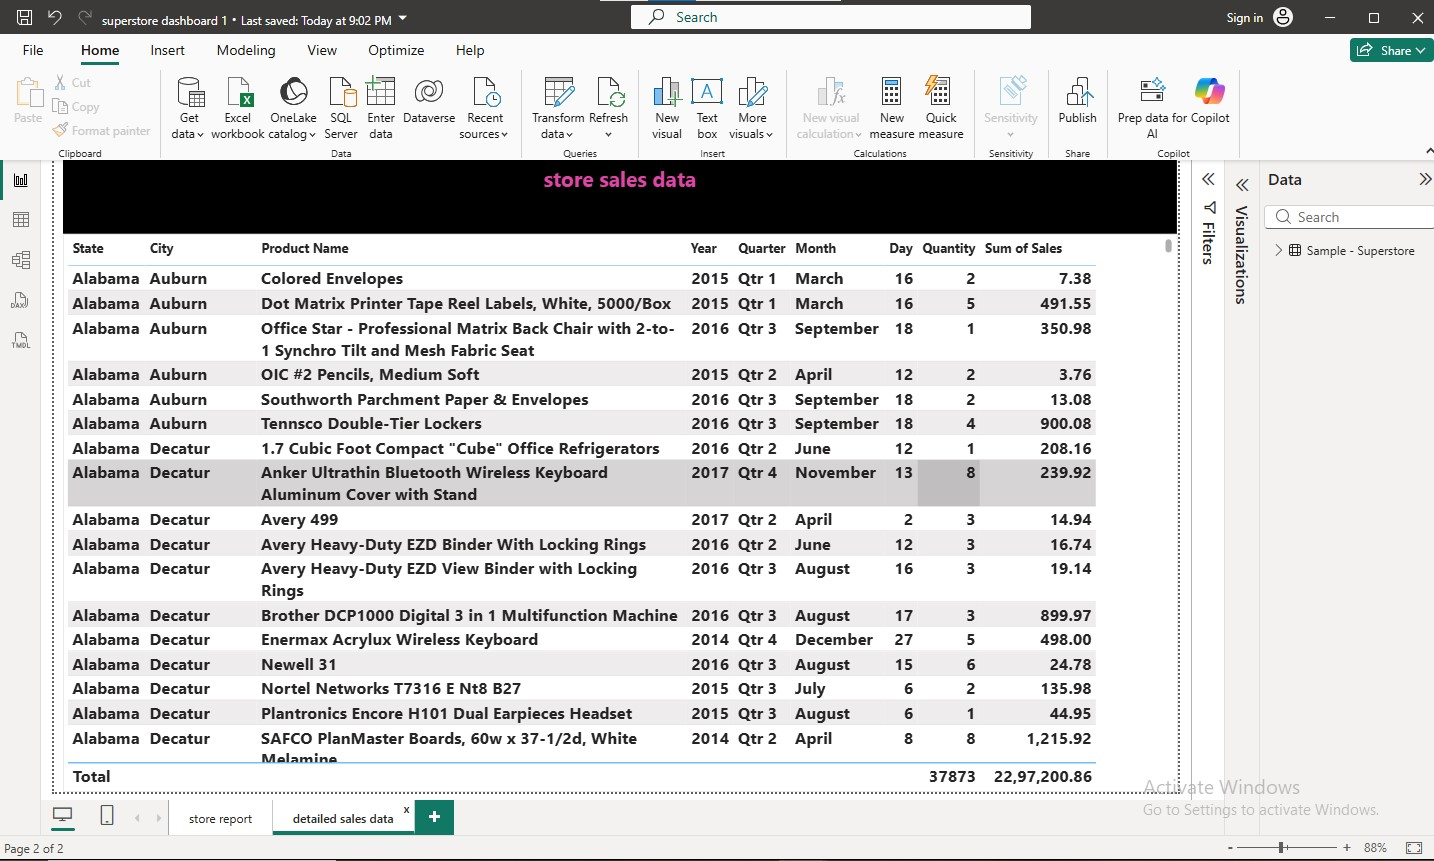

Layout of this report page (visuals, bound fields, positions):
{"tool":"powerbi","page":{"name":"detailed sales data","canvas":[1280,720],"ordinal":1},"visuals":[{"type":"tableEx","fields":{"Values":["Sample - Superstore.State","Sample - Superstore.City","Sample - Superstore.Product Name","Sample - Superstore.Order Date.Variation.Date Hierarchy.Year","Sample - Superstore.Order Date.Variation.Date Hierarchy.Quarter","Sample - Superstore.Order Date.Variation.Date Hierarchy.Month","Sample - Superstore.Order Date.Variation.Date Hierarchy.Day","Sum(Sample - Superstore.Quantity)","Sum(Sample - Superstore.Sales)"]},"box":[10.7,84.2,1269.3,635.4],"z":0},{"type":"textbox","box":[10.7,0,1269.3,84.2],"z":1}]}

Visuals, with their boxes on the page's 1280x720 design canvas (x1, y1, x2, y2). These are canvas units, not pixel positions in the 1434x861 screenshot, which may show the page scaled, cropped or inside an application window:
tableEx - Sample - Superstore.State x Sample - Superstore.City: <box>11,84,1280,720</box>
textbox: <box>11,0,1280,84</box>
